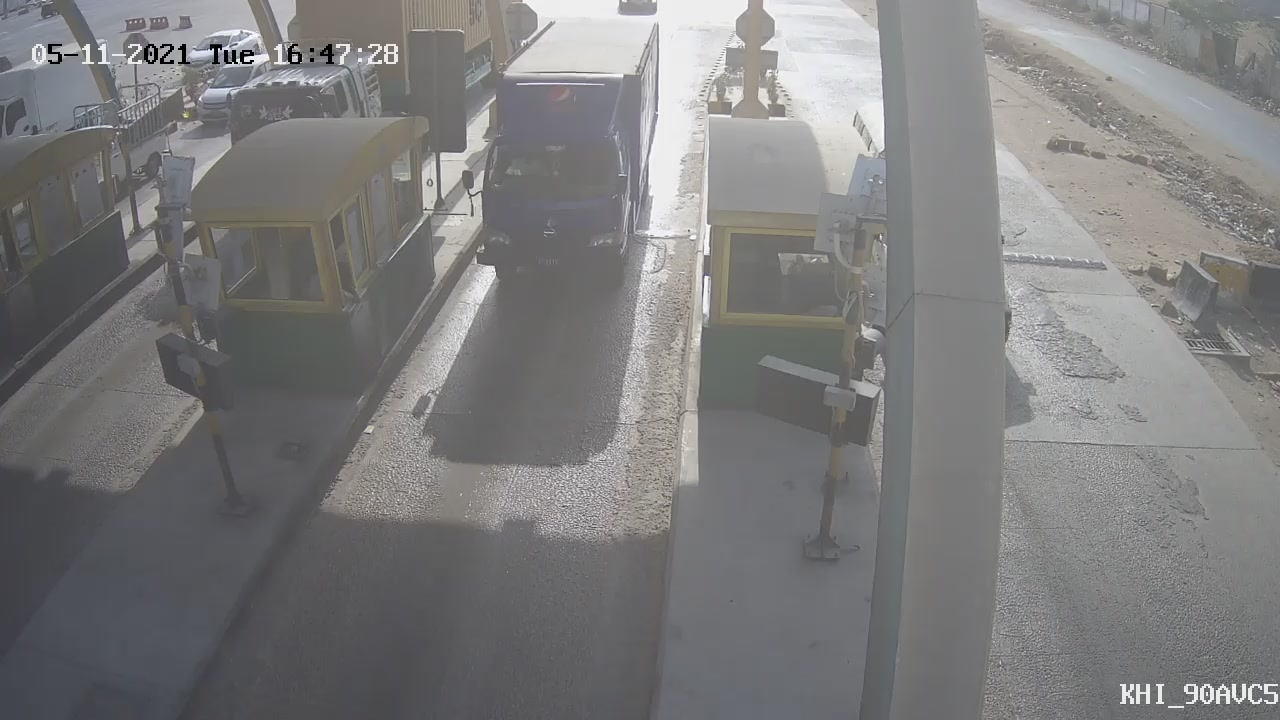F5: (447, 4, 689, 314)
